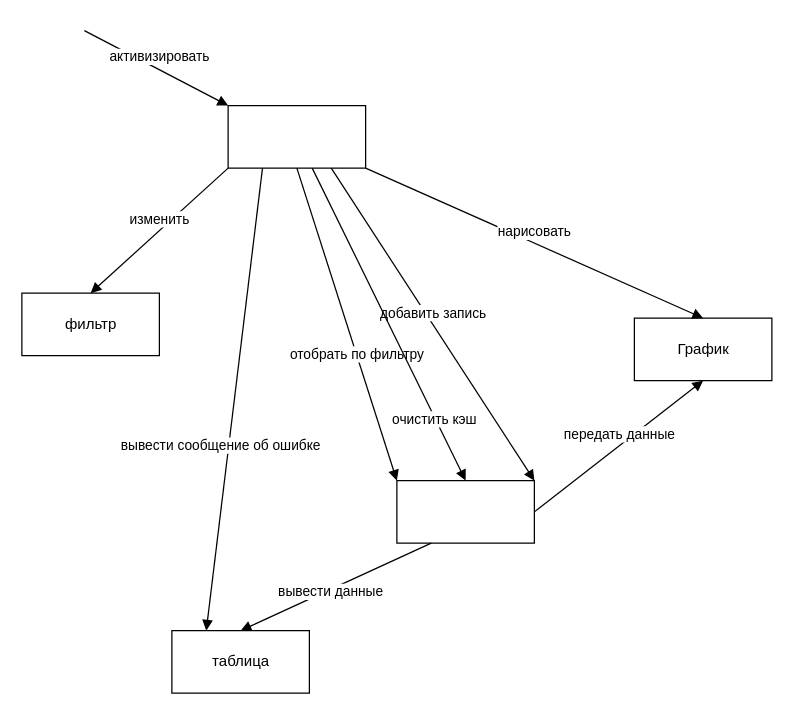
This 794x715 diagram has some shape labels left out. Each missing label, with the box of its shape:
Основная форма: (227, 104, 366, 168)
файл с данными: (396, 479, 534, 543)
